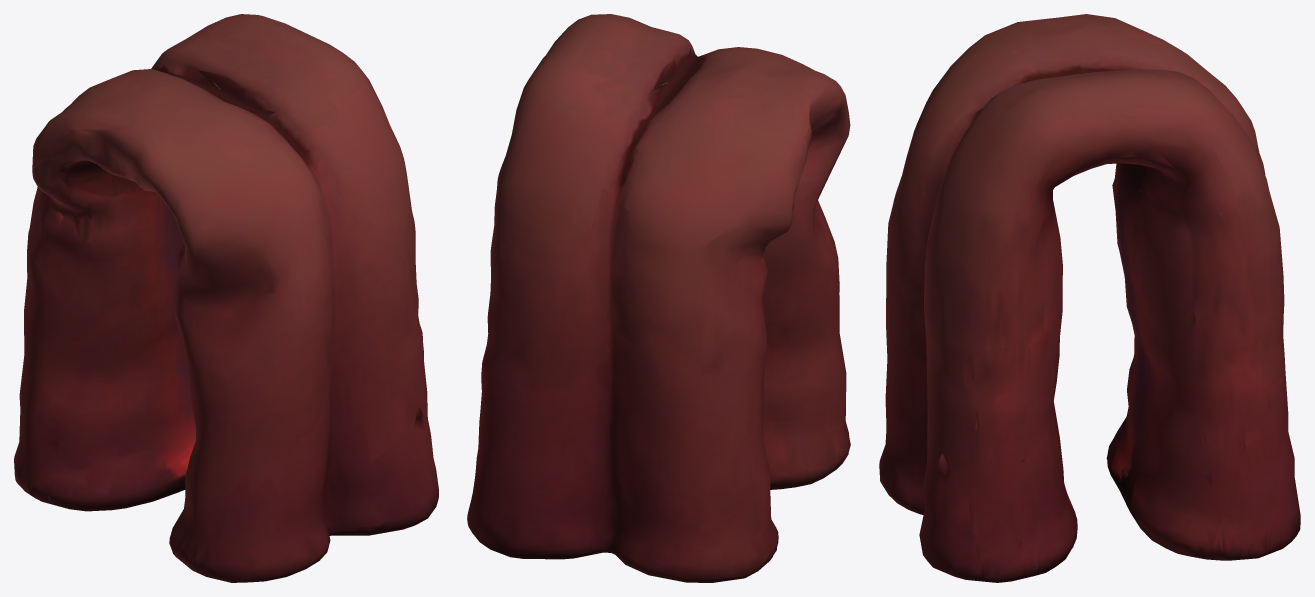
Rendered from 01_3_bud_rrs_stool.glb.
3 renders of one model, left to right at view 1: azimuth 30°, elevation 25°; view 2: azimuth 150°, elevation 25°; view 3: azimuth 270°, elevation 25°, orthographic. The views are drawn at different scales.
Parts seen in each view (by area): view 1: tripo_material_2e37826a-9f09-40e4-9aca-c6835949edb5.002; view 2: tripo_material_2e37826a-9f09-40e4-9aca-c6835949edb5.002; view 3: tripo_material_2e37826a-9f09-40e4-9aca-c6835949edb5.002.
Boxes of the visible parts, x1,y1,x2,y2 form: tripo_material_2e37826a-9f09-40e4-9aca-c6835949edb5.002: [14, 14, 438, 582]; tripo_material_2e37826a-9f09-40e4-9aca-c6835949edb5.002: [467, 14, 850, 582]; tripo_material_2e37826a-9f09-40e4-9aca-c6835949edb5.002: [879, 14, 1300, 582].
Size of the model in its own units: 0.3364 by 0.4499 by 0.3729.
Materials: 1 (1 with a texture image).
